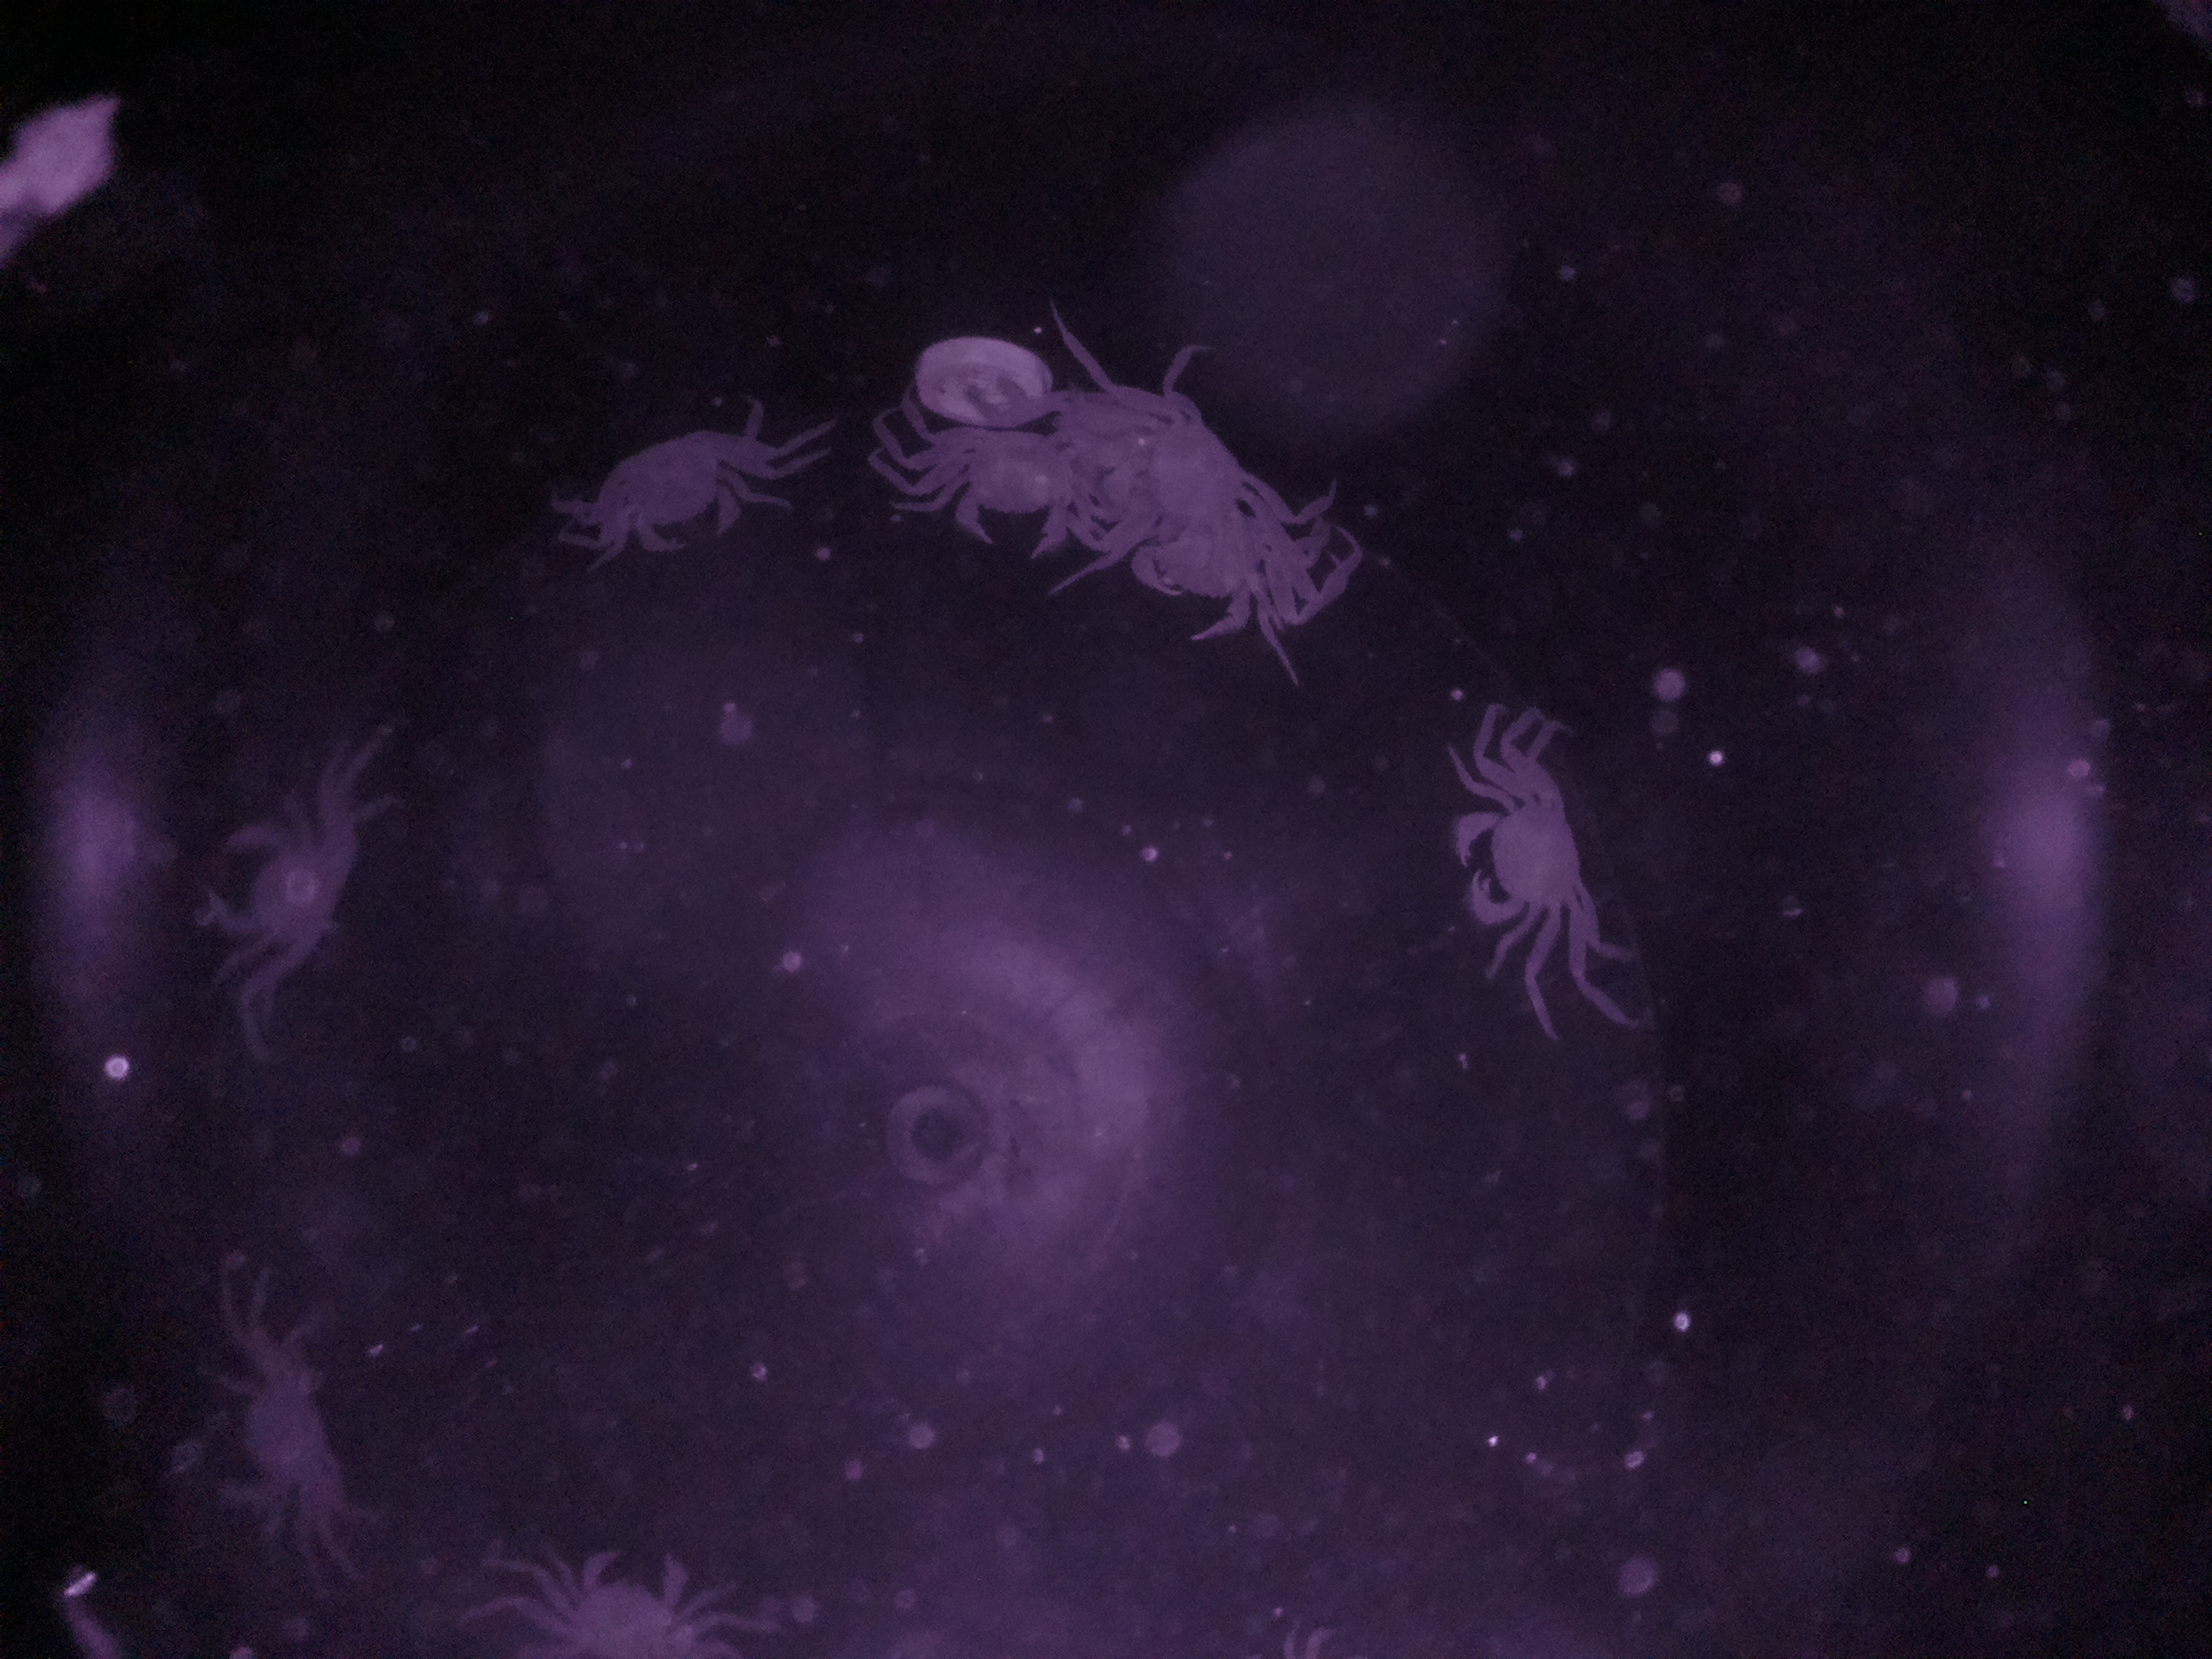Crab: (1437, 735, 1629, 971), (564, 415, 775, 572)
